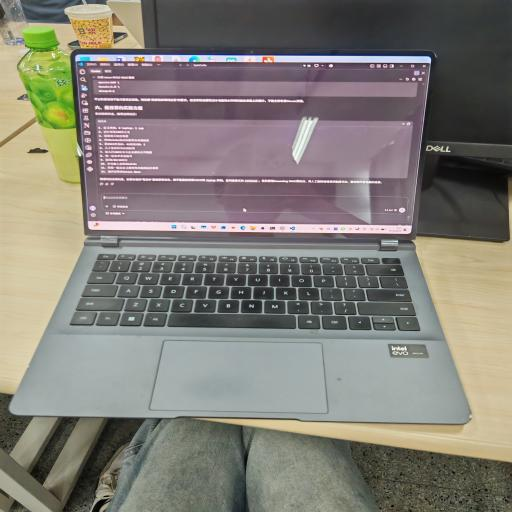laptop: (10, 50, 470, 424)
